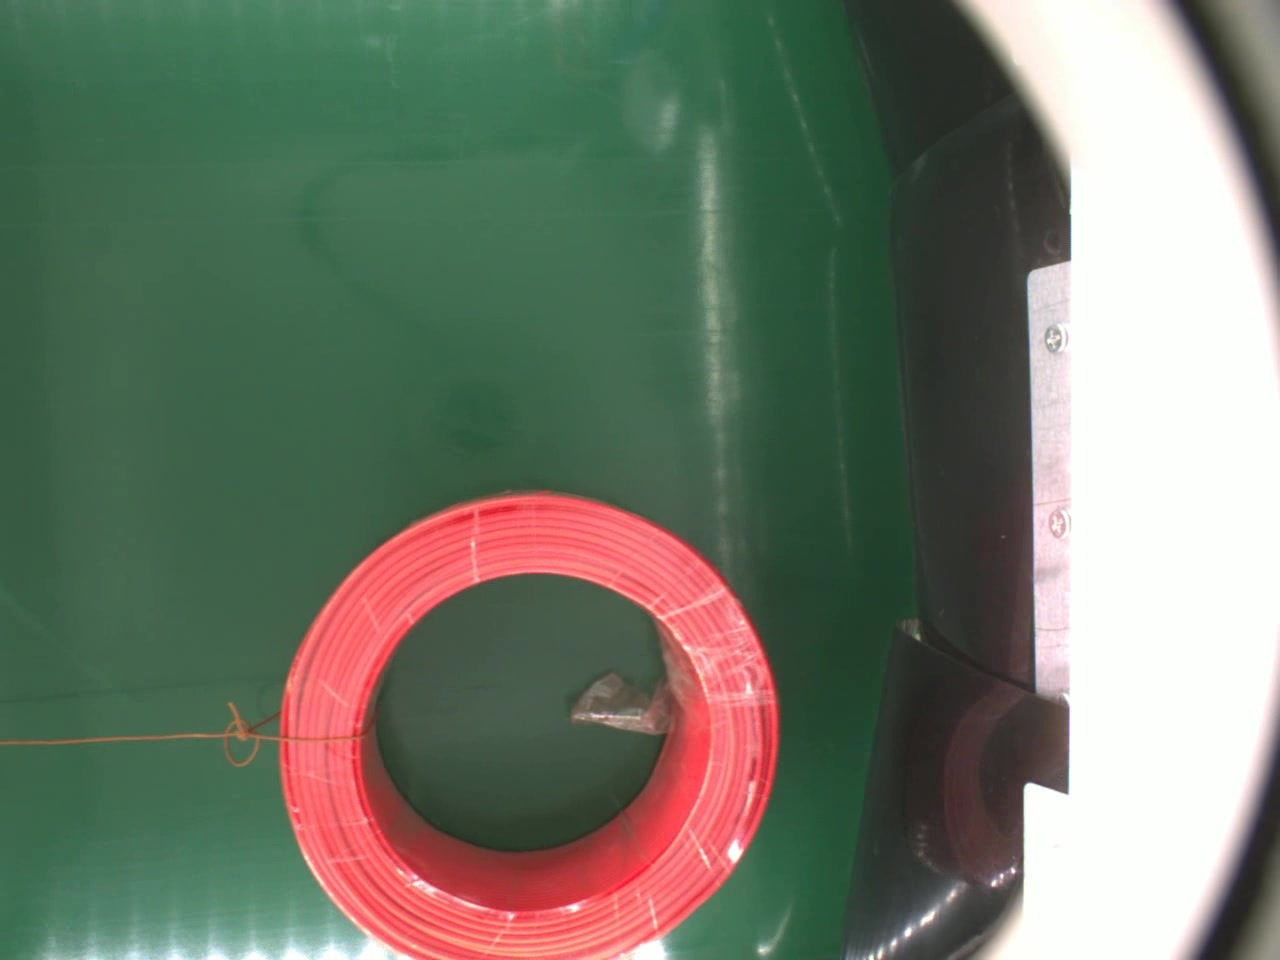red: (277, 486, 785, 960)
